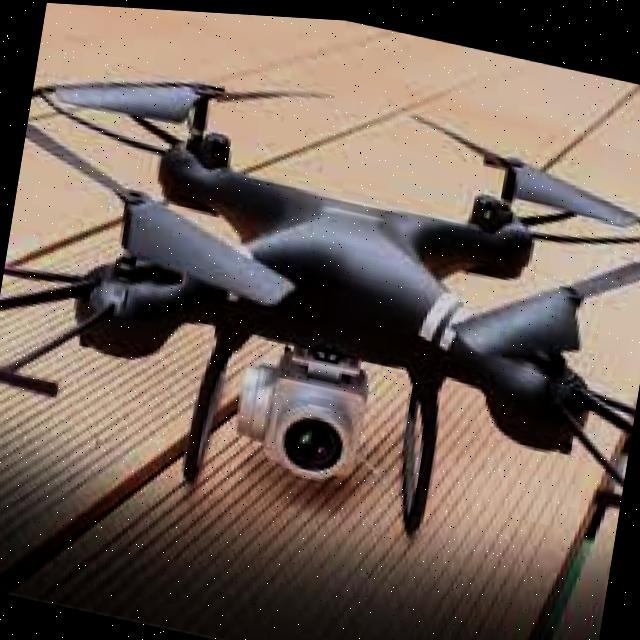drone: (0, 12, 640, 579)
